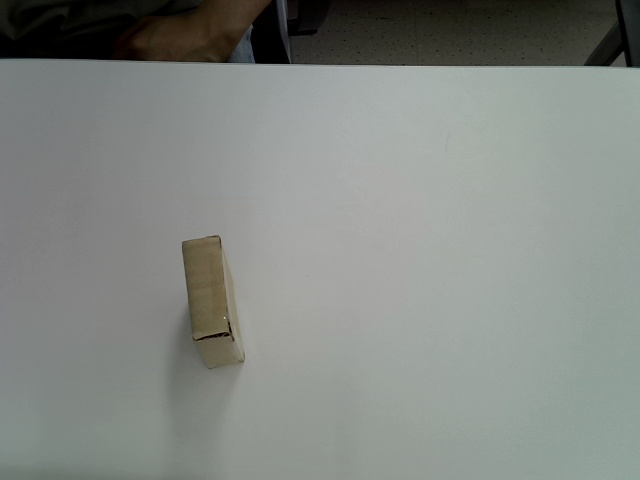normal: (181, 235, 247, 370)
